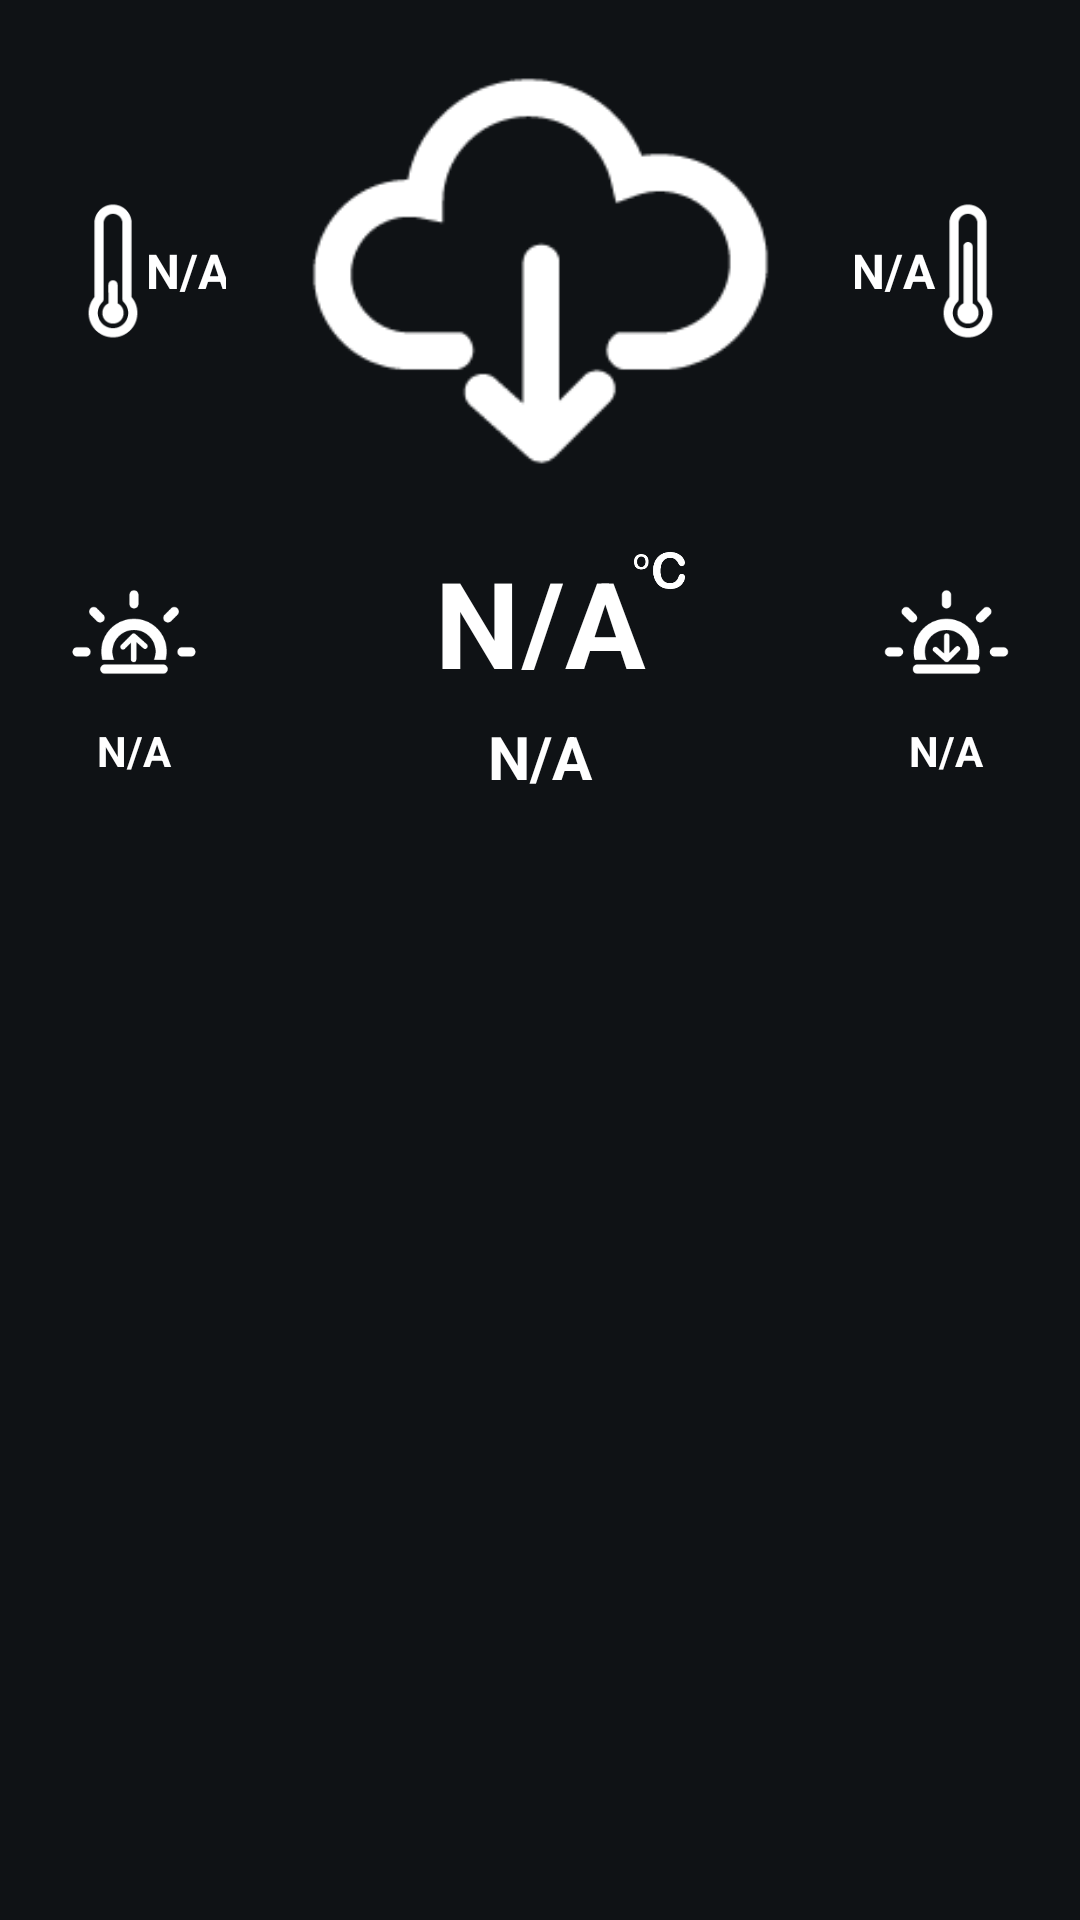

Screen size 1080 × 1920. Icon name, then its center in pixels as (x=x, y=y):
sun set: (x=946, y=632)
sunrise: (x=134, y=632)
